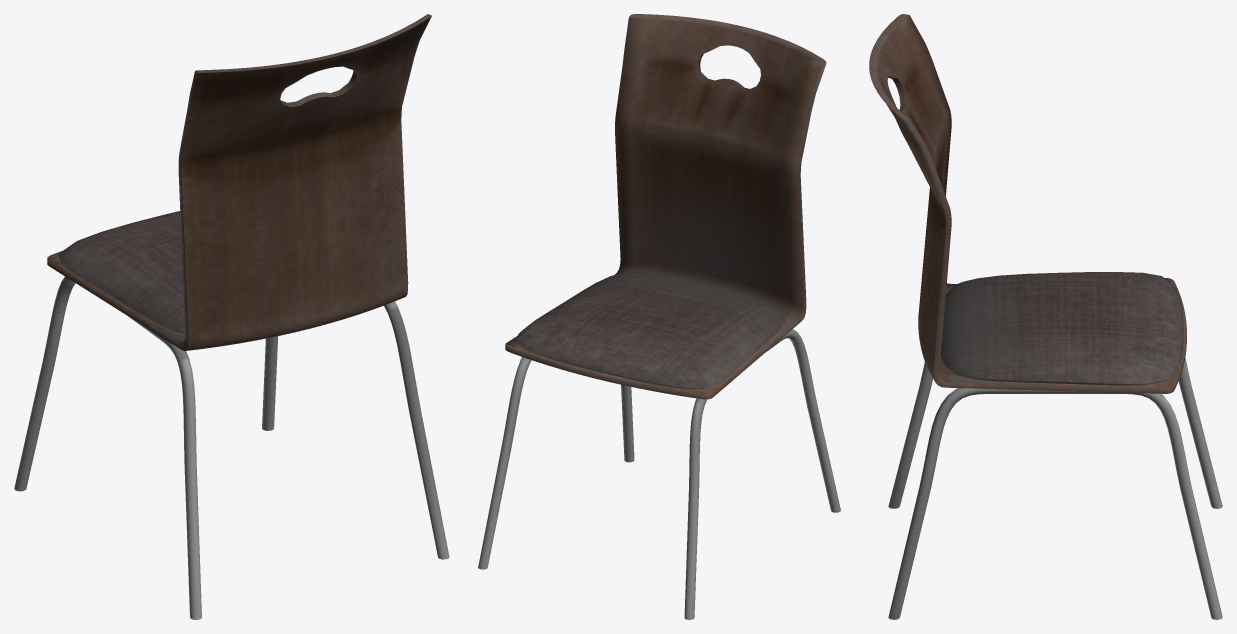
The model's file is Chair.FBX.
The picture shows the model from 3 angles, left to right: view 1: azimuth 30°, elevation 25°; view 2: azimuth 150°, elevation 25°; view 3: azimuth 270°, elevation 25°; orthographic projection. The views are drawn at different scales.
Parts seen in each view (by area): view 1: Chair; view 2: Chair; view 3: Chair.
Part boxes in pixels (bbox=[...]): Chair: bbox=[14, 14, 449, 619]; Chair: bbox=[478, 14, 840, 619]; Chair: bbox=[869, 14, 1222, 619].
Size of the model in its own units: 0.5161 by 1.03 by 0.6659.
1 material, 1 textured.
